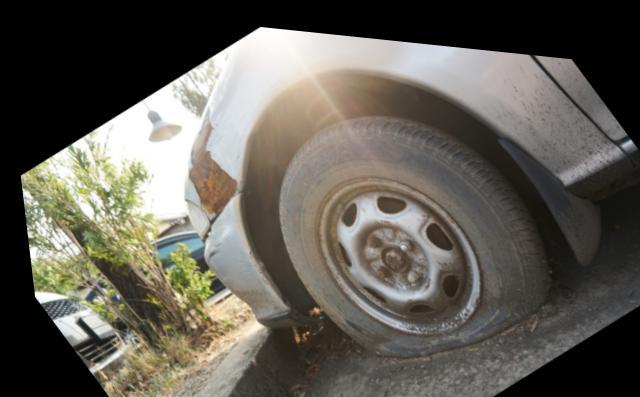tire flat: (275, 103, 547, 351)
